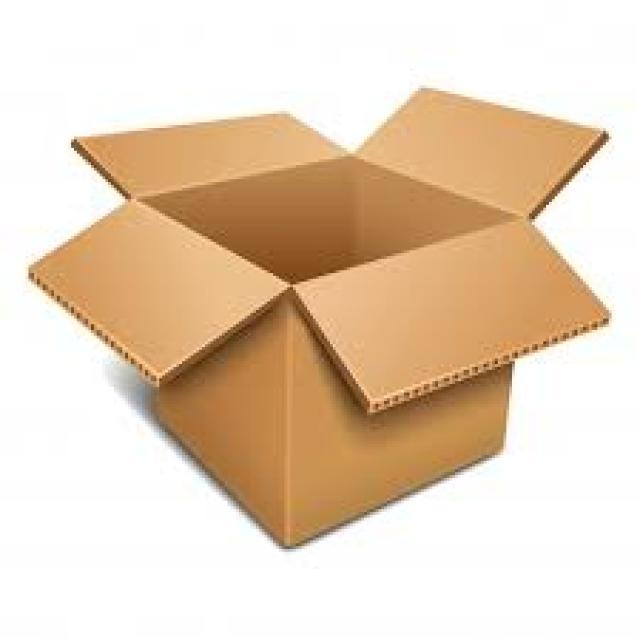Cardboard: (27, 84, 609, 547)
